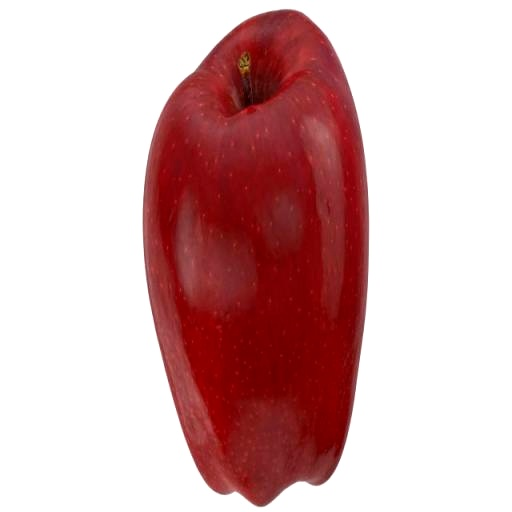fruit: (144, 11, 367, 504)
